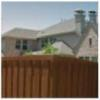chimneys: (73, 7, 86, 34), (89, 8, 97, 27)
